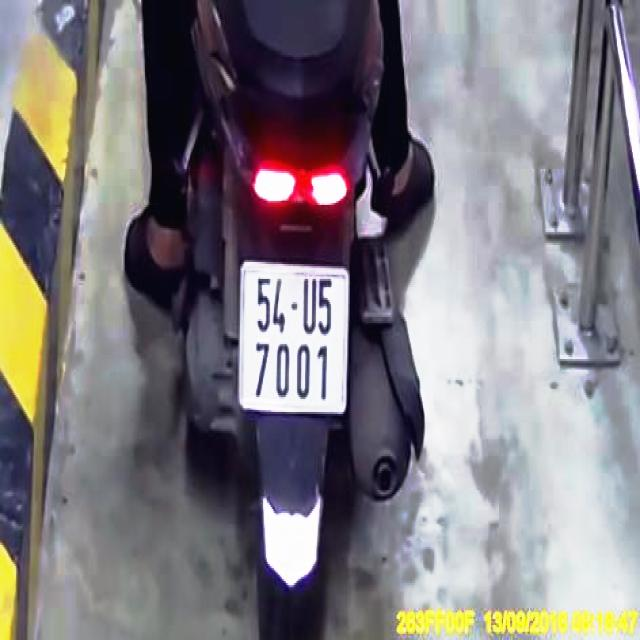license_plate: (241, 262, 352, 416)
